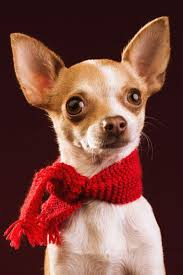chihuahua: (6, 7, 179, 261)
